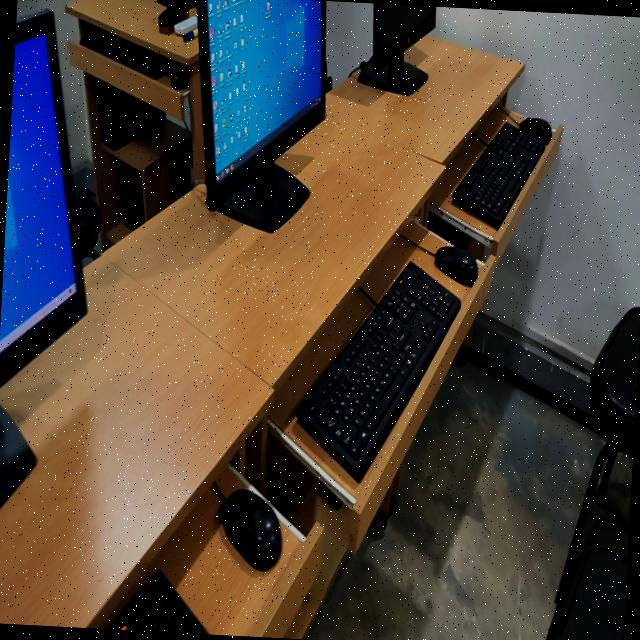Chair: (554, 307, 640, 605), (550, 546, 628, 640)
Keyboard: (296, 261, 459, 477), (452, 122, 545, 227), (108, 570, 208, 635), (79, 25, 171, 78)
Monitor: (0, 9, 85, 386), (193, 0, 325, 231), (357, 2, 435, 94), (0, 404, 35, 505)
Mouse: (219, 488, 281, 570), (434, 246, 477, 286), (519, 117, 551, 143), (170, 70, 188, 89)
